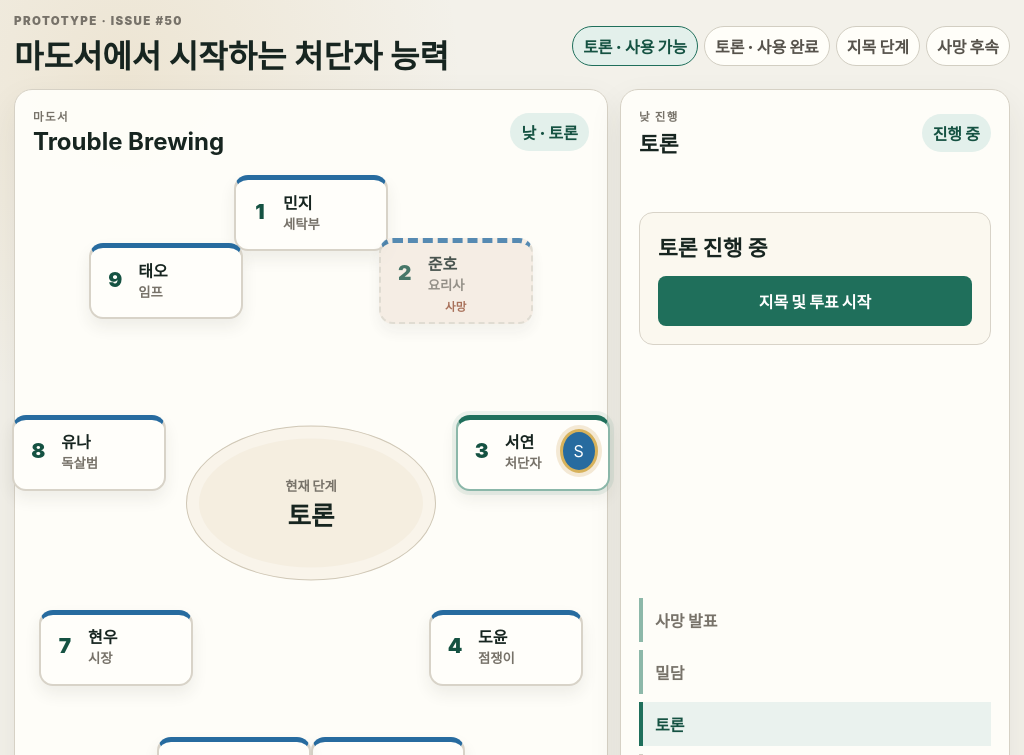
Test case: records a miss as spent while keeping Discussion active
Click the button named "3번 서연 처단자 능력 사용" at x=579, y=451, box [560,429,598,473]
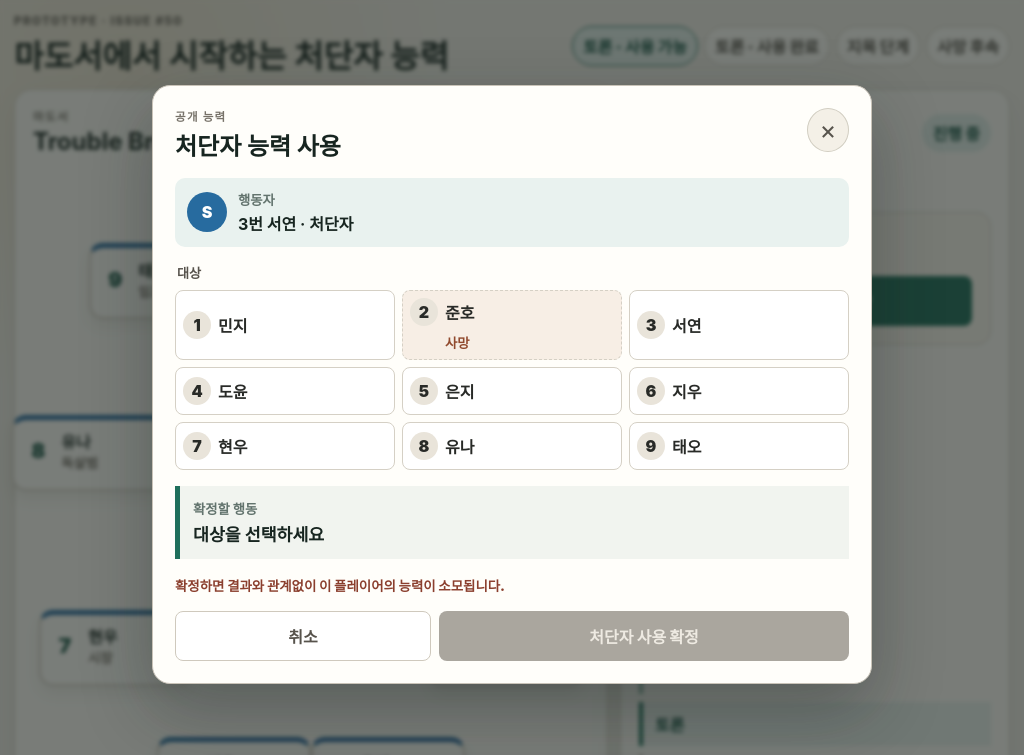
Click the button with aria-label "1번 민지" at x=285, y=324, box [175,290,395,360]
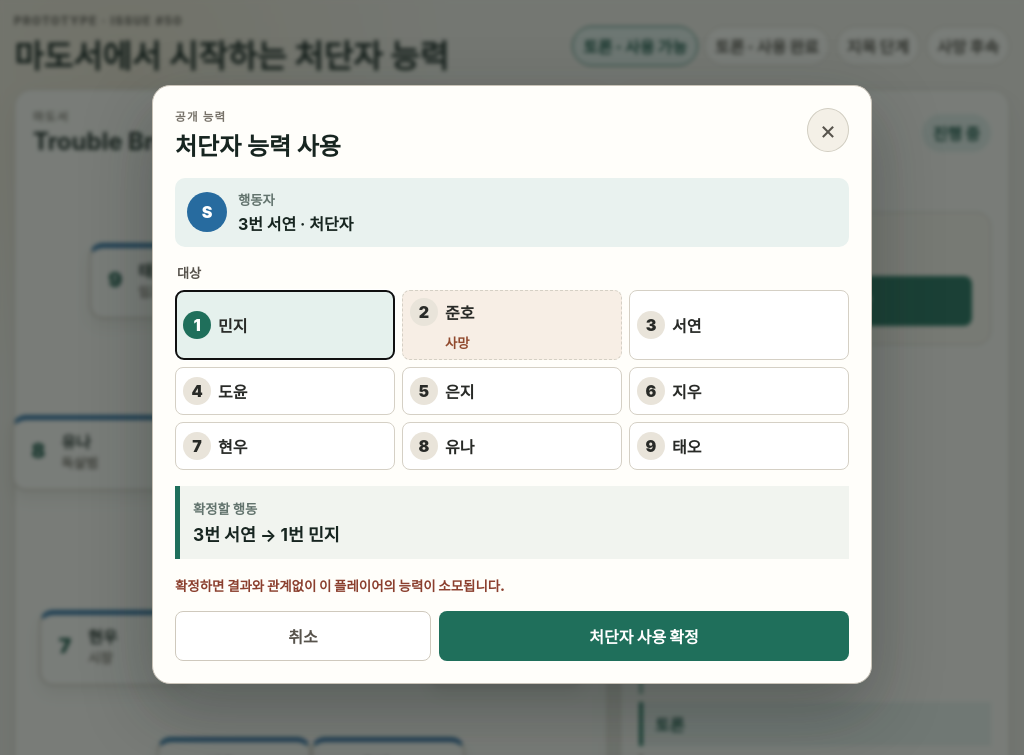
Click the button "처단자 사용 확정" at x=644, y=636, box [439,610,849,660]
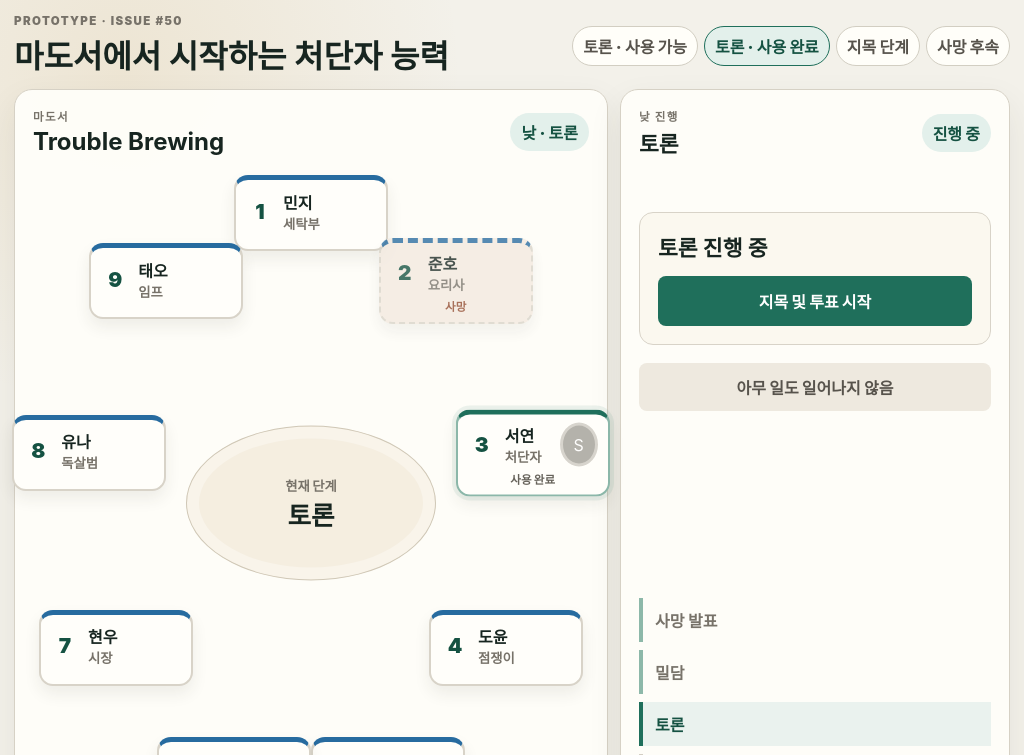
Now the text "아무 일도 일어나지 않음" is shown, box [639,363,991,411]
Now the button named "3번 서연 처단자 능력 사용 불가" is disabled, box [560,422,598,466]
